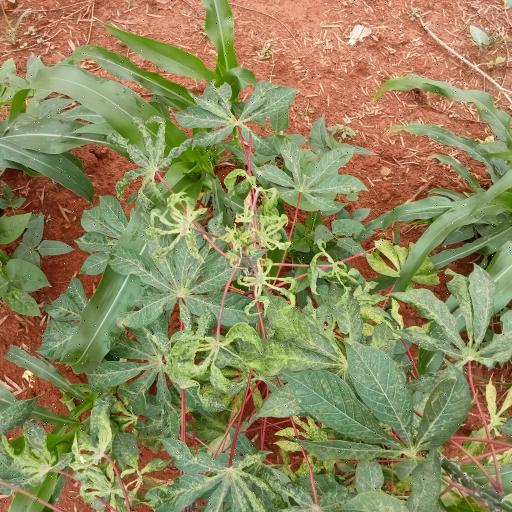Cassava_Mosaic: (299, 348, 460, 461), (116, 236, 262, 332), (156, 439, 295, 512), (181, 84, 294, 146), (168, 322, 264, 392), (265, 147, 364, 204)
